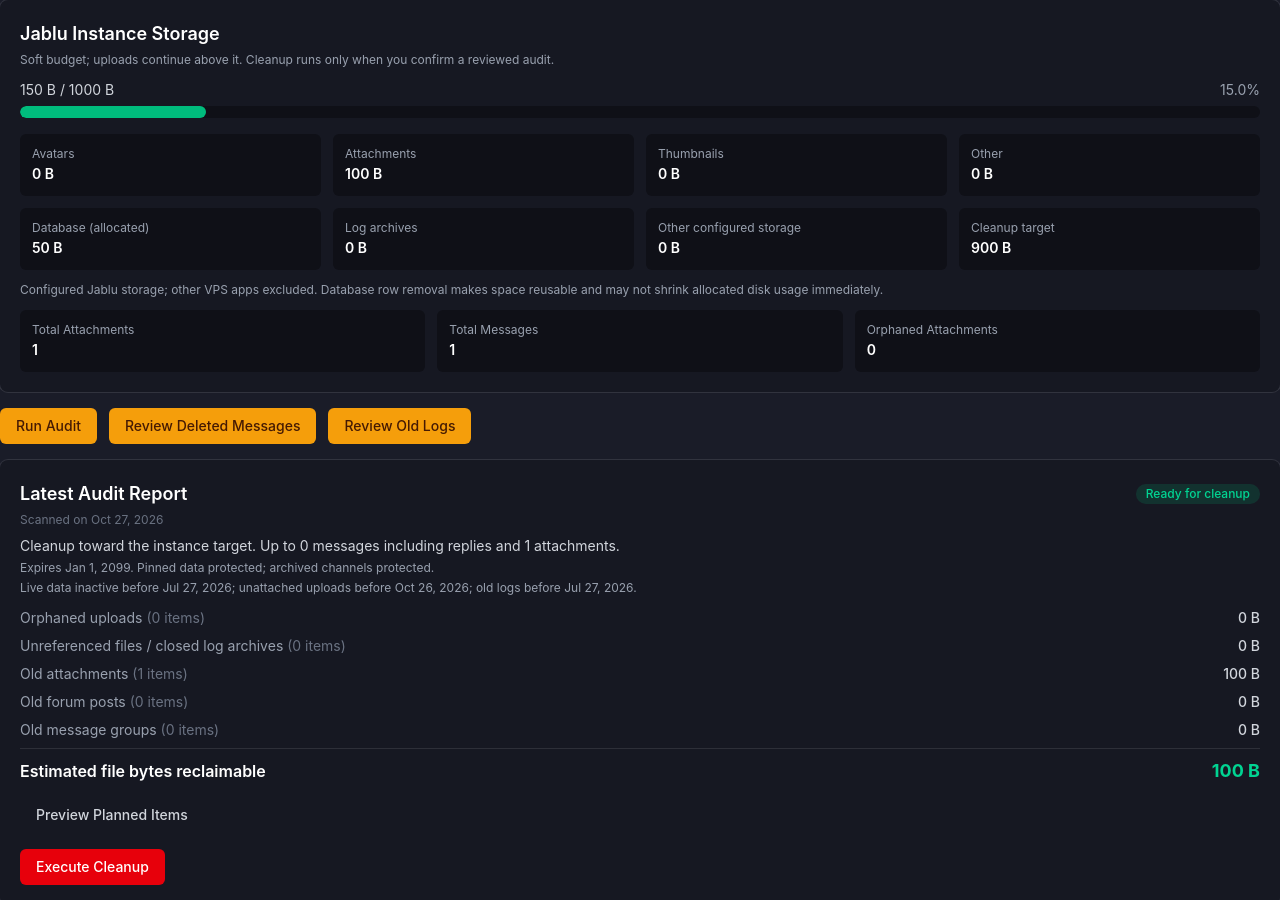
Test: Storage UI safety contracts › reloads server state after failure and offers recovery instead of a stale ready report
This screenshot has width=1280, height=900.
Click the button "Execute Cleanup".
click(92, 867)  # box [20,849,165,885]
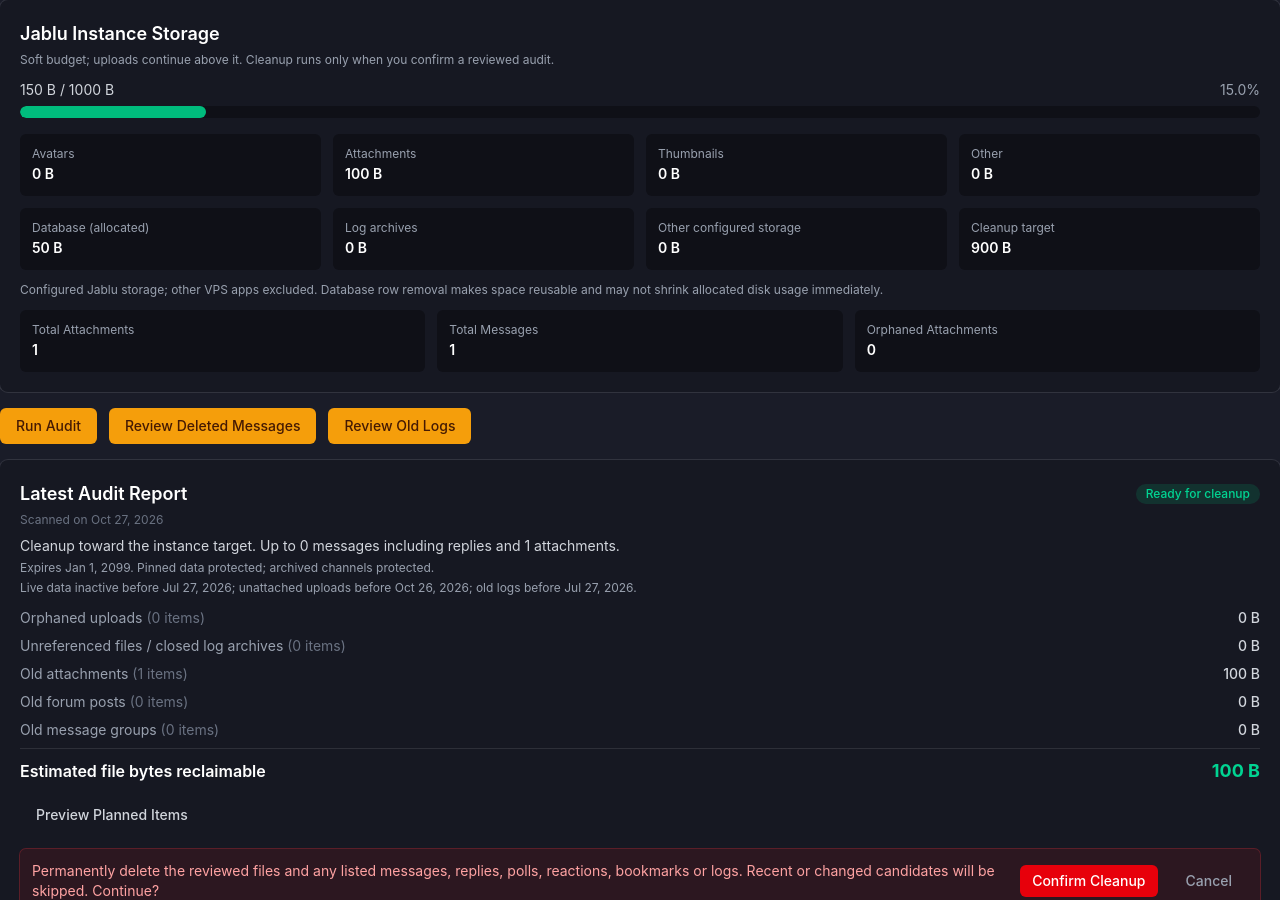
Click the button "Confirm Cleanup".
click(1089, 881)  # box [1020,865,1158,897]
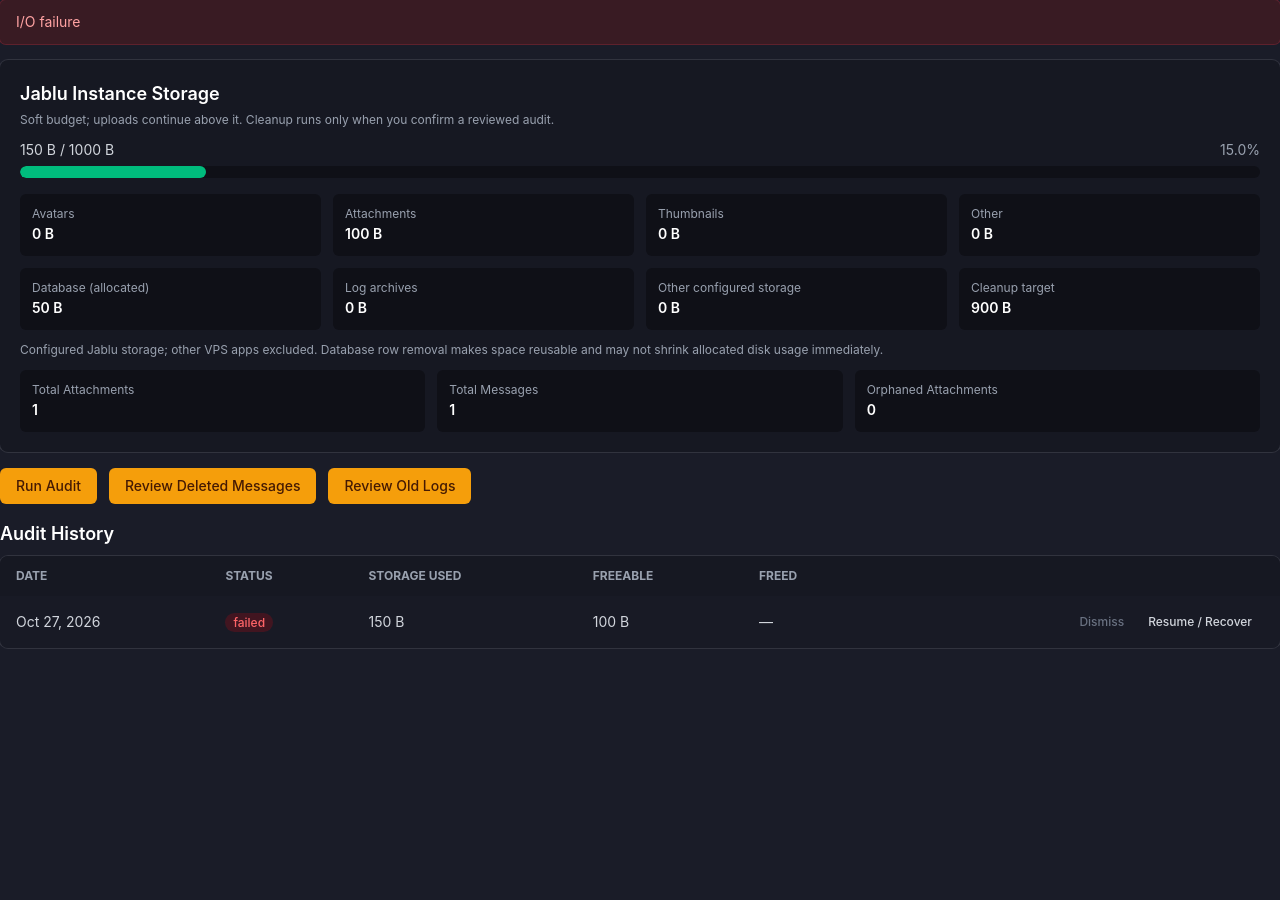
expect the text "I/O failure" is shown: met, box [0,0,1279,44]
expect the text "Ready for cleanup" is gone: met
expect the button "Resume / Recover" is shown: met, box [1136,608,1264,636]
